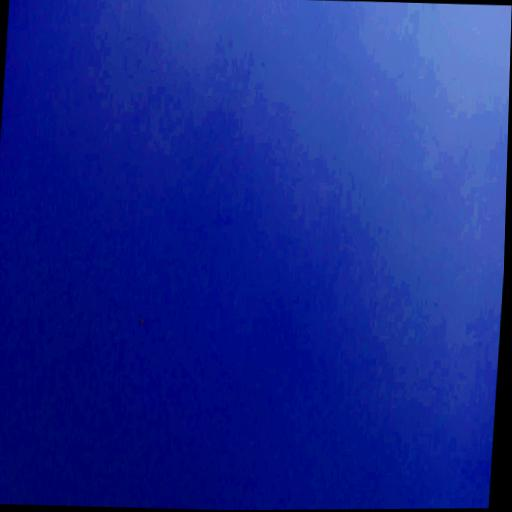drones: (137, 313, 146, 329)
